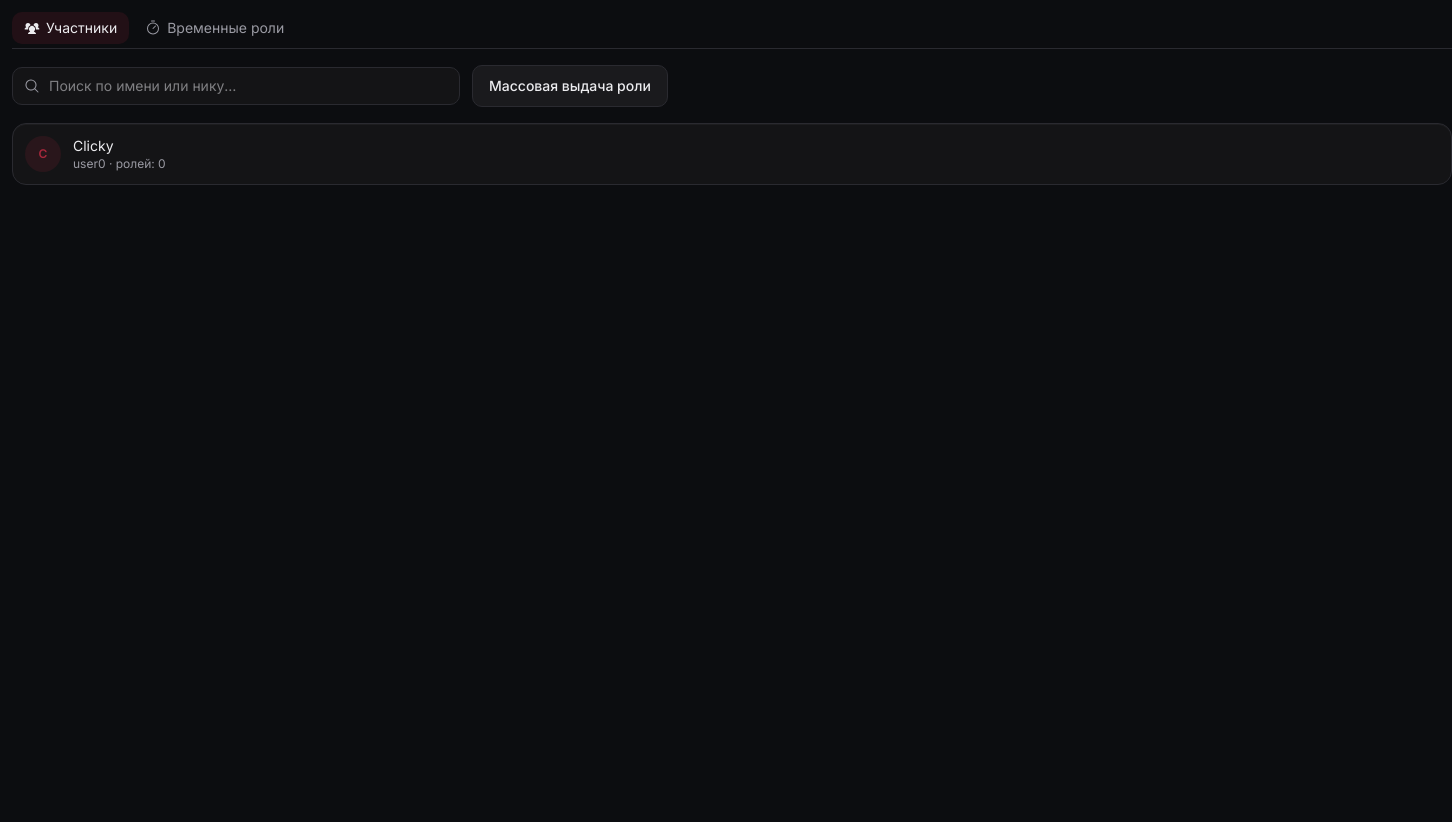
Scenario: MembersPage › opens the detail panel when a member is clicked
Click the text "Clicky".
click(93, 146)  # box [73,137,114,154]
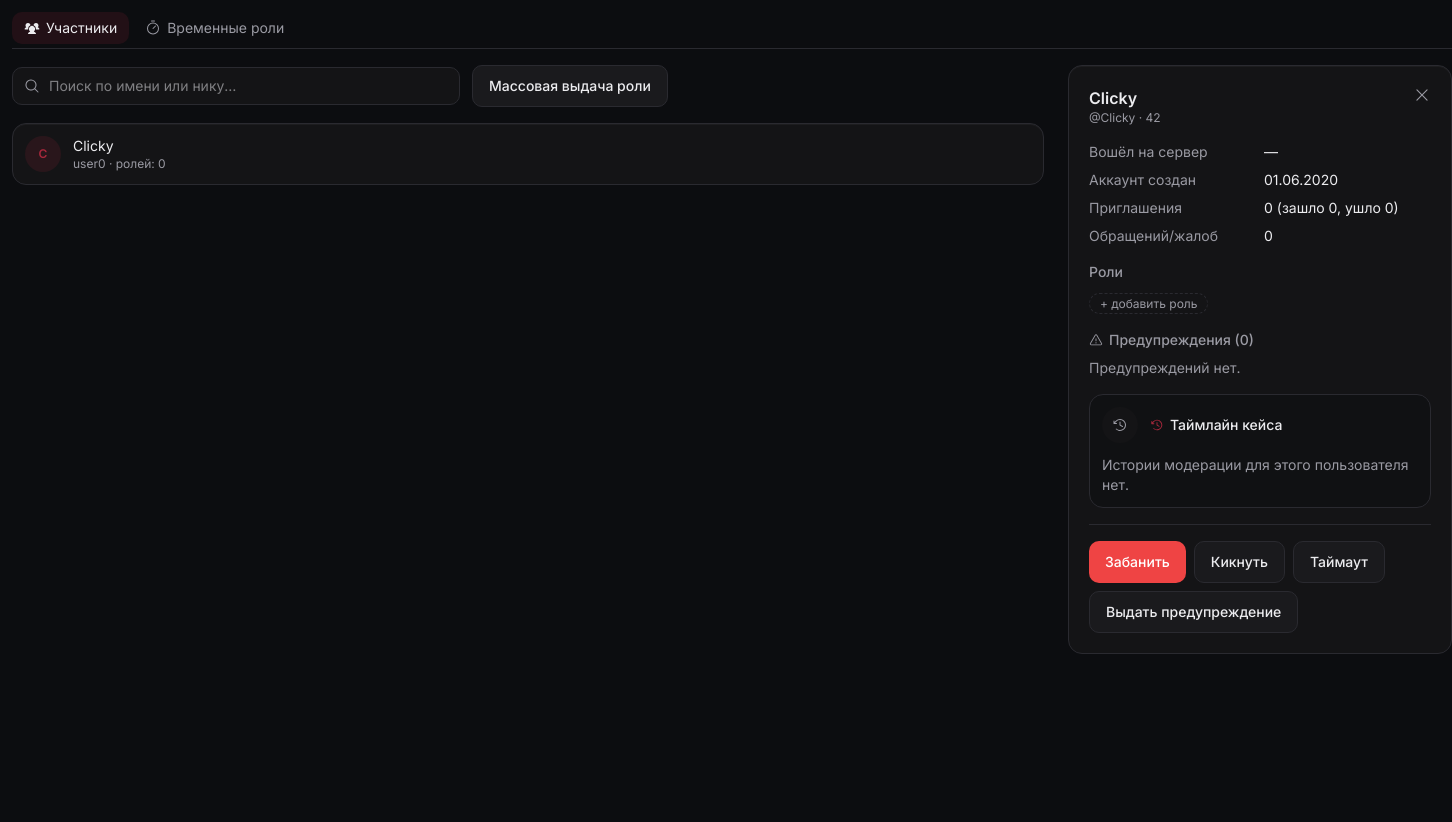
Result: the button "Забанить" is shown at [1089,541,1186,583]
Result: the button "Кикнуть" is shown at [1194,541,1285,583]
